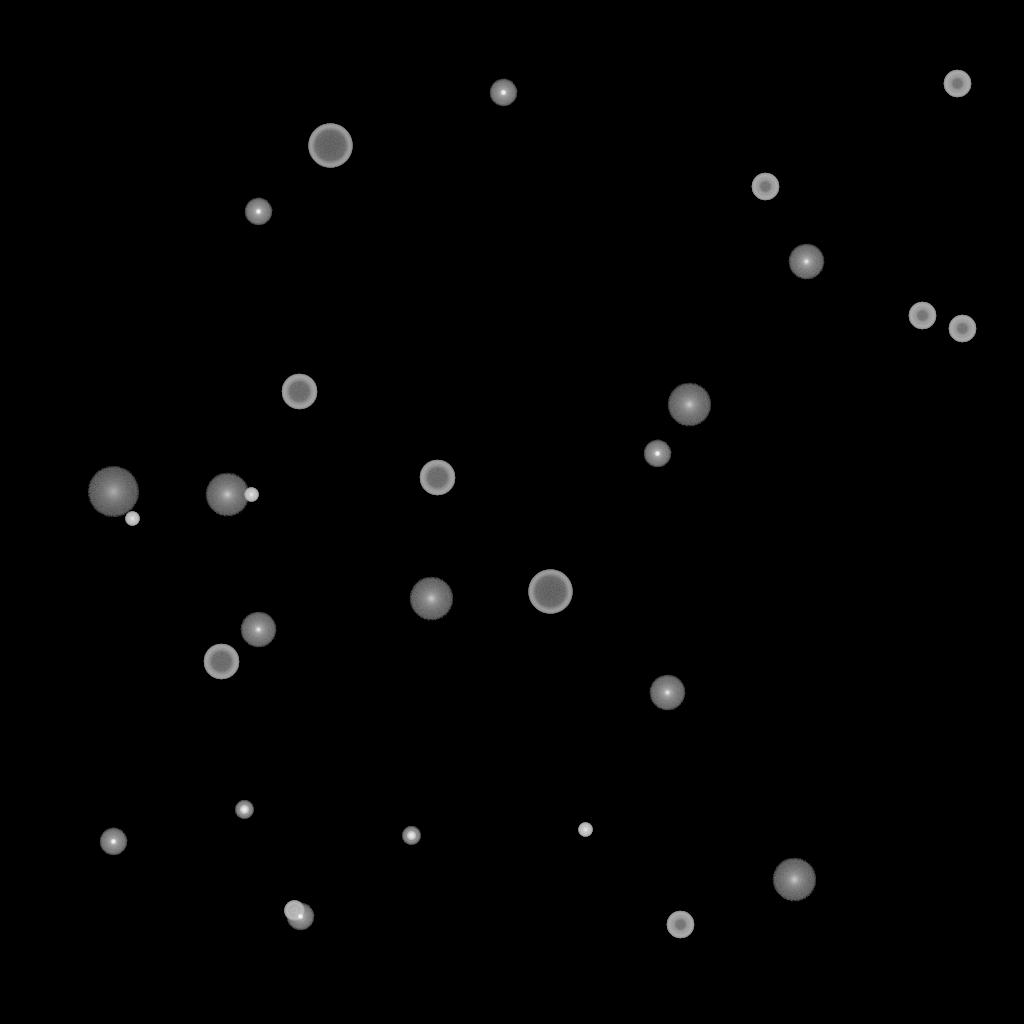depth:-10: (244, 198, 272, 226), (489, 79, 517, 107), (99, 828, 127, 856), (286, 903, 314, 931), (643, 440, 671, 468)
depth:-20: (235, 801, 253, 819), (402, 827, 420, 845)
depth:-30: (125, 512, 139, 526), (578, 823, 592, 837), (244, 488, 258, 502)
depth:-40: (284, 901, 304, 921)
depth:-50: (948, 315, 976, 343), (666, 911, 694, 939), (943, 70, 971, 98), (908, 302, 936, 330), (751, 173, 779, 201)
depth:-60: (281, 374, 317, 410), (203, 644, 239, 680), (419, 460, 455, 496)
depth:-70: (308, 124, 352, 168), (528, 570, 572, 614)
depth:0: (240, 612, 276, 648), (649, 675, 685, 711), (788, 244, 824, 280)
depth:10: (667, 383, 711, 427), (772, 858, 816, 902), (205, 473, 249, 517), (409, 577, 453, 621)
depth:20: (87, 467, 139, 517)
